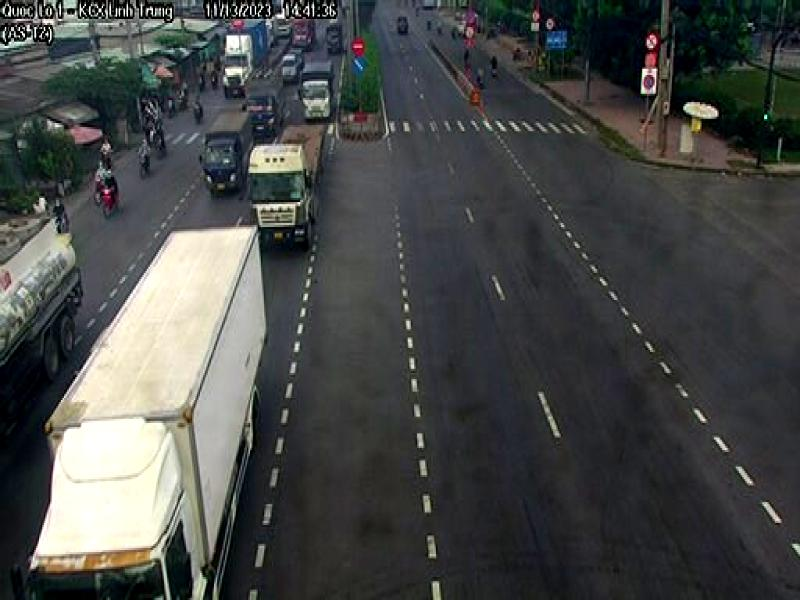truck: (2, 219, 270, 600), (254, 118, 332, 248), (198, 100, 256, 198)
